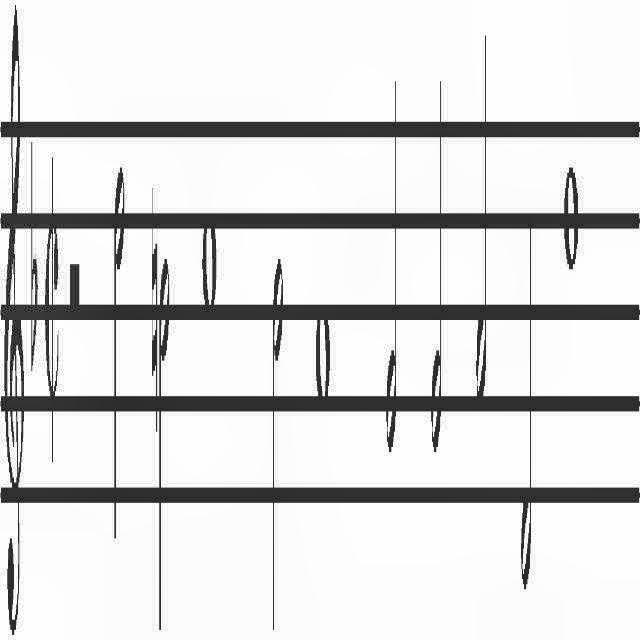Bass-clef: (3, 0, 25, 640)
Bemol: (28, 130, 40, 392)
Full-note: (314, 298, 332, 407), (201, 207, 217, 316), (564, 157, 578, 276)
Half-note: (473, 19, 489, 422), (112, 160, 126, 562), (271, 246, 285, 632), (520, 213, 534, 594), (386, 66, 398, 464), (430, 69, 442, 457), (158, 250, 170, 632)
